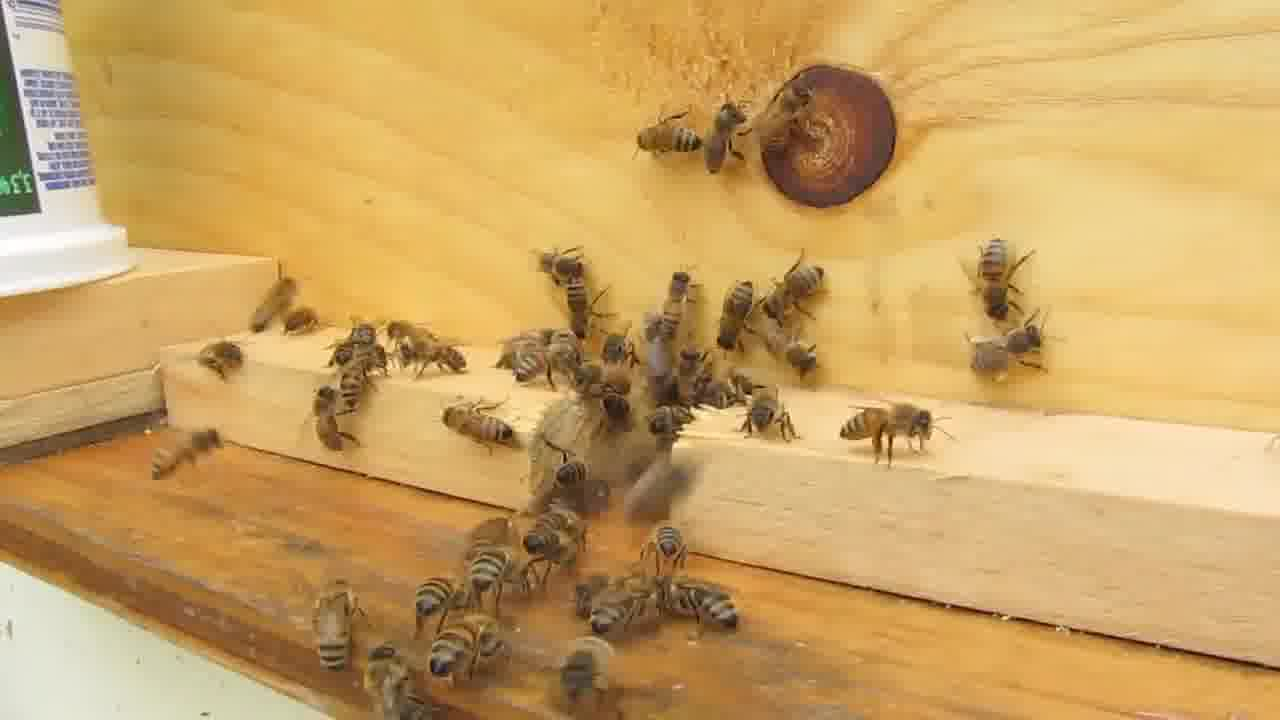pollen: (954, 319, 1060, 391)
